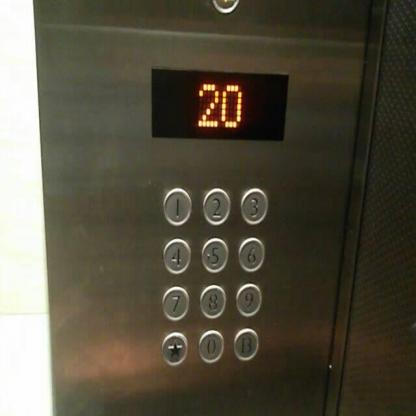0: (197, 327, 224, 363)
1: (162, 186, 192, 227)
2: (201, 186, 231, 226)
3: (238, 185, 268, 226)
4: (162, 236, 191, 276)
5: (200, 236, 228, 274)
6: (237, 235, 265, 272)
7: (161, 284, 190, 322)
8: (198, 283, 226, 318)
9: (234, 280, 262, 317)
B: (232, 325, 258, 361)
led: (150, 65, 288, 142)
s: (160, 329, 188, 367)
